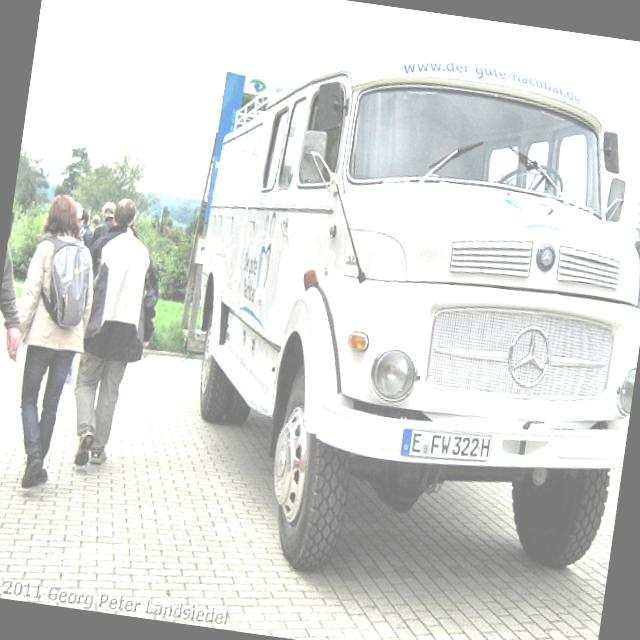Vehicle: (160, 36, 640, 618)
